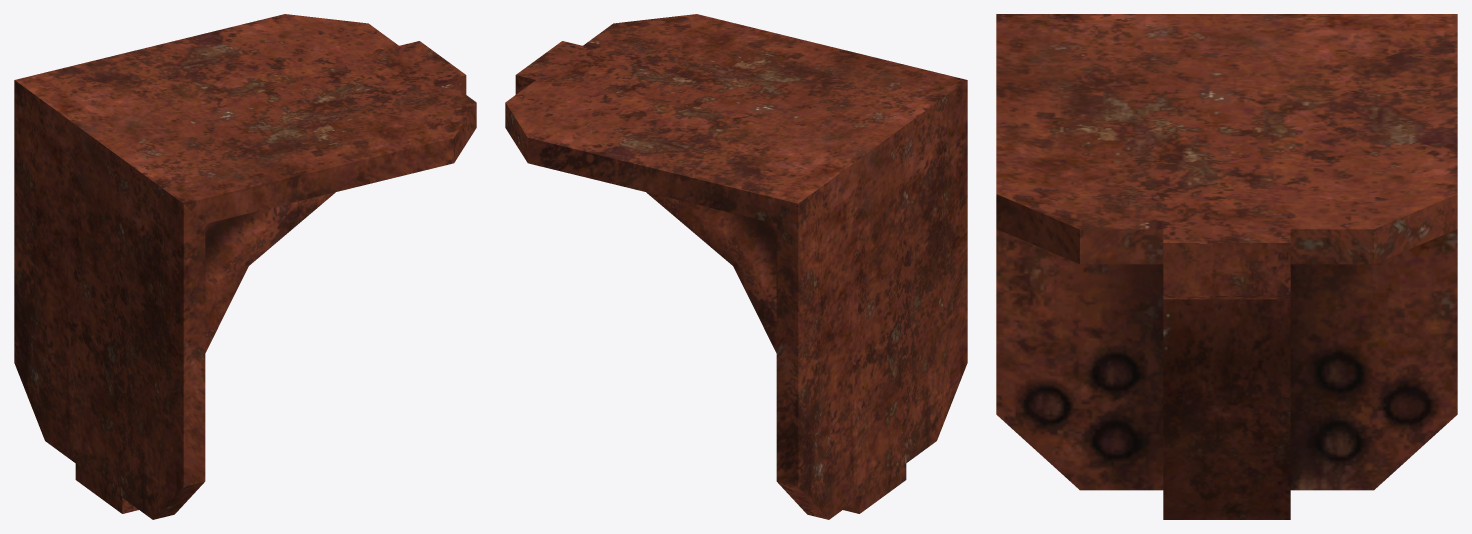
The model's file is wall_to_roof_welder.dae.
3 renders of one model, left to right at view 1: azimuth 30°, elevation 25°; view 2: azimuth 150°, elevation 25°; view 3: azimuth 270°, elevation 25°, orthographic. The views are drawn at different scales.
Parts seen in each view (by area): view 1: pCube1; view 2: pCube1; view 3: pCube1.
Boxes of the visible parts, x1,y1,x2,y2 form: pCube1: (14,14,476,519); pCube1: (505,14,967,519); pCube1: (996,14,1457,519).
Size of the model in its own units: 1.06 by 1.05 by 0.9049.
